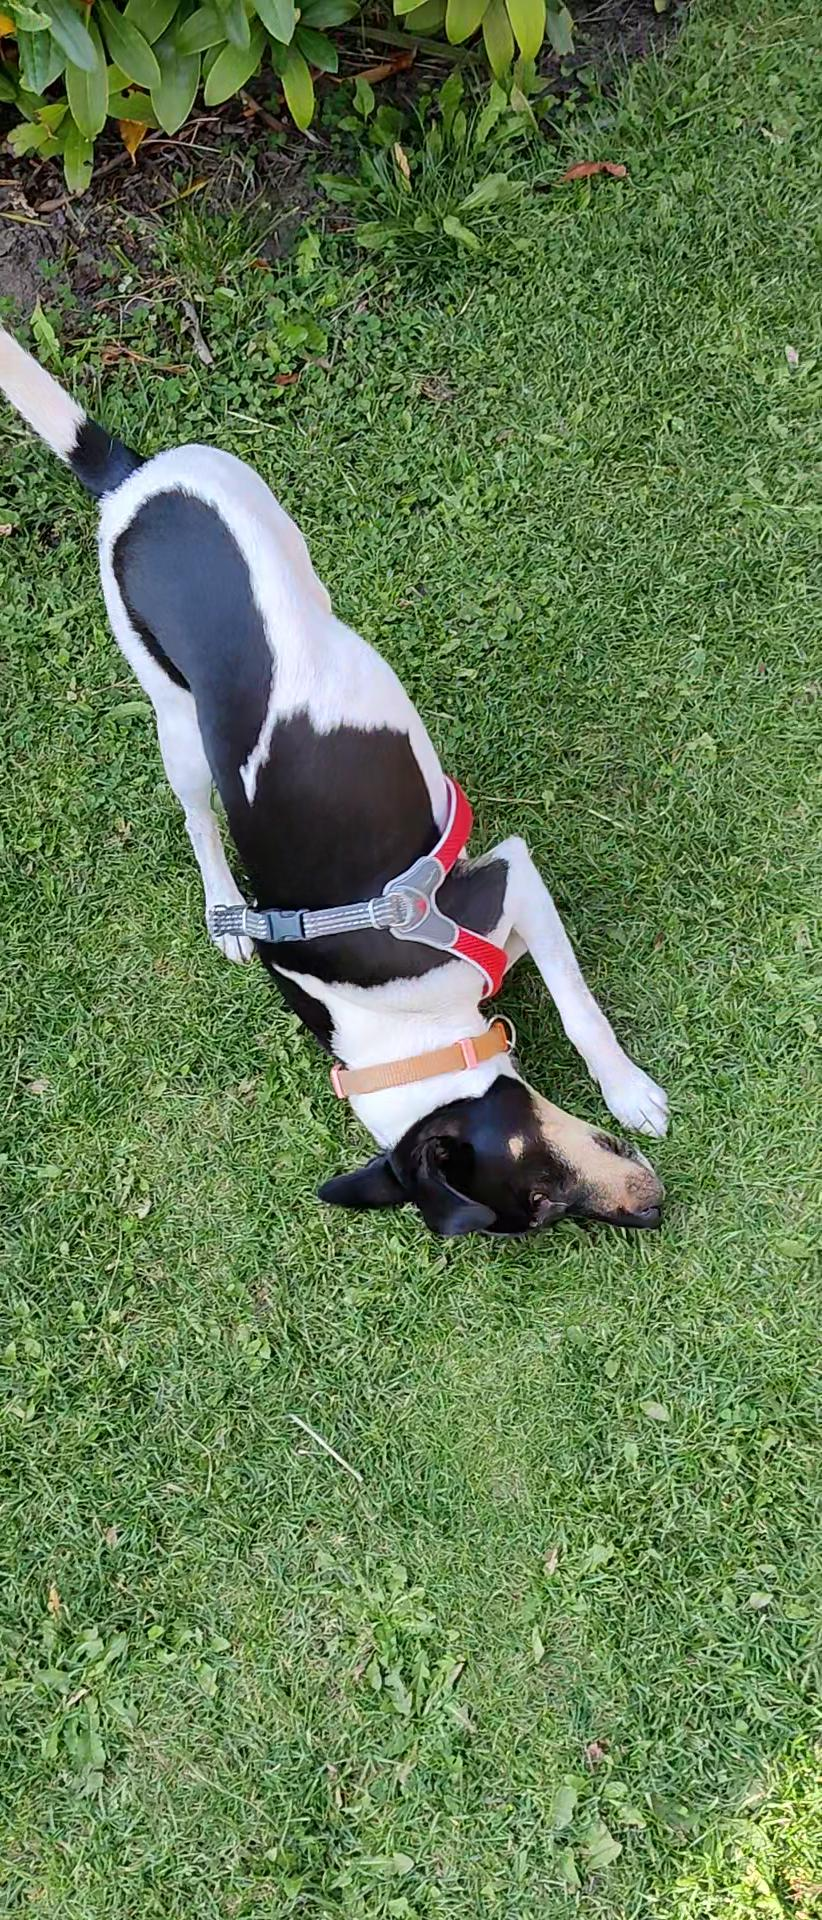Dog: (0, 301, 715, 1273)
